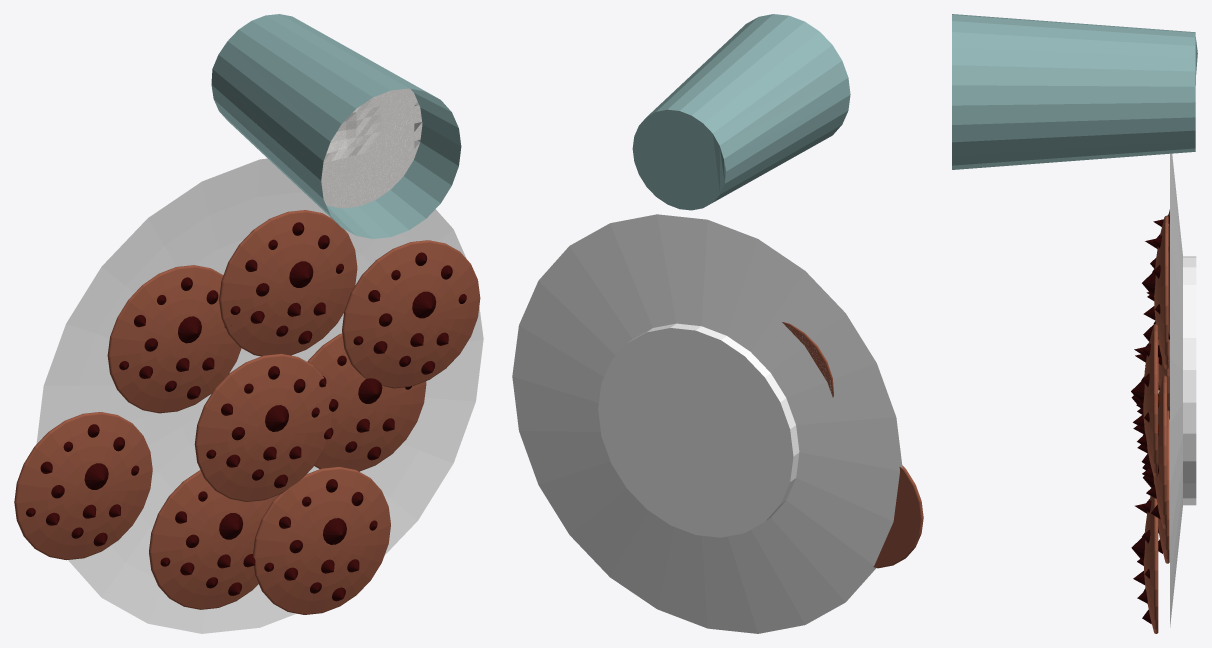
3 renders of one model, left to right at view 1: azimuth 30°, elevation 25°; view 2: azimuth 150°, elevation 25°; view 3: azimuth 270°, elevation 25°, orthographic. The views are drawn at different scales.
Visible parts, largest first — view 1: cookie; view 2: cookie; view 3: cookie.
Part boxes in pixels (bbox=[...]): cookie: bbox=[14, 14, 483, 633]; cookie: bbox=[512, 14, 923, 633]; cookie: bbox=[952, 14, 1197, 633].
Bounding box in the file's own units: 3056 × 3823 × 1430.
